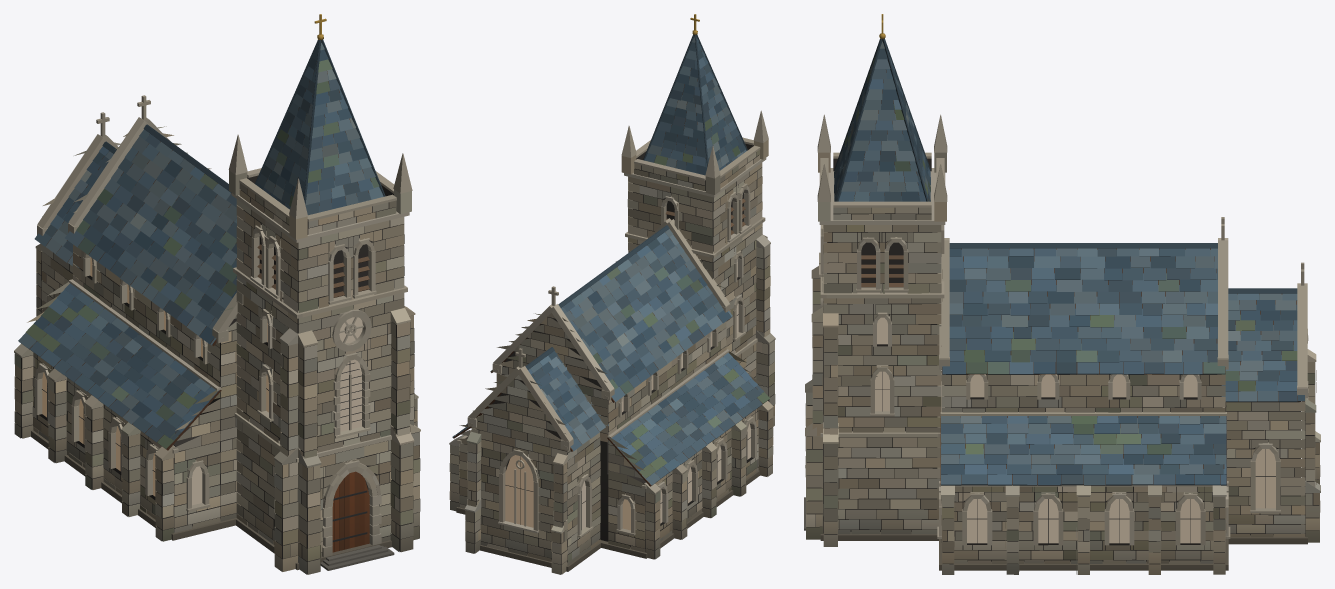
File: temple.glb
3 views of the same model, side by side, from view 1: azimuth 30°, elevation 25°; view 2: azimuth 150°, elevation 25°; view 3: azimuth 270°, elevation 25° (orthographic). The views are drawn at different scales.
Visible parts, largest first — view 1: Temple; view 2: Temple; view 3: Temple.
Boxes of the visible parts, bbox=[...] form: Temple: bbox=[14, 14, 420, 574]; Temple: bbox=[449, 14, 775, 574]; Temple: bbox=[804, 14, 1320, 574].
Bounding box in the file's own units: 15.49 × 29.9 × 27.99.
